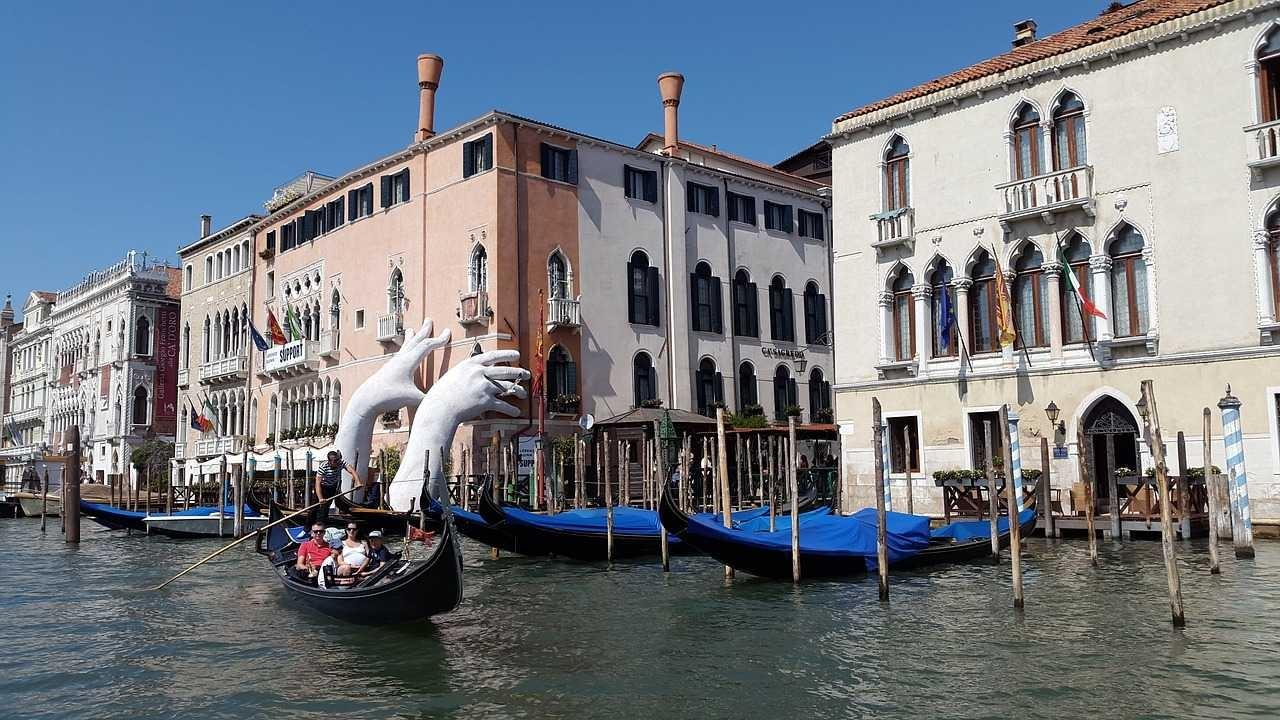kayak: (659, 485, 931, 582), (262, 504, 465, 629), (493, 502, 668, 560), (926, 495, 1038, 561), (1, 449, 67, 519), (143, 501, 267, 538)
